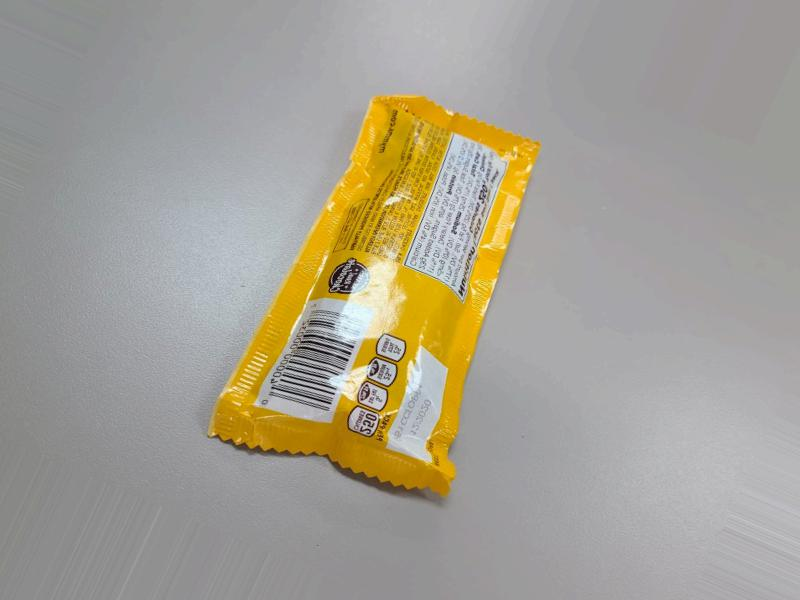m&m: (196, 54, 535, 514)
